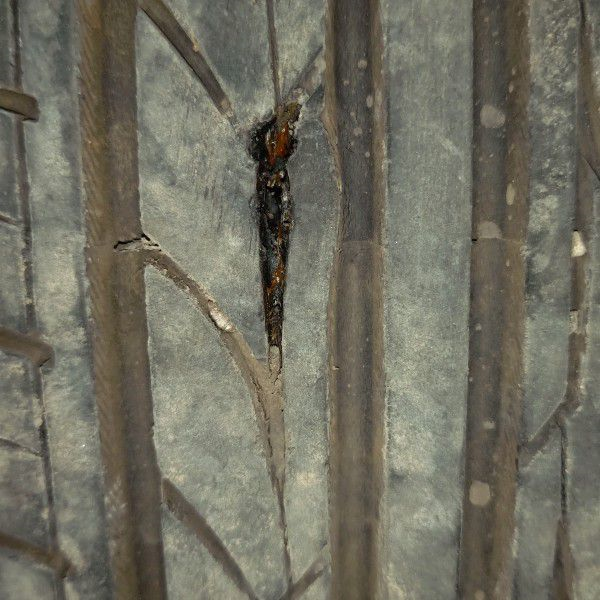tr: (244, 91, 305, 379)
